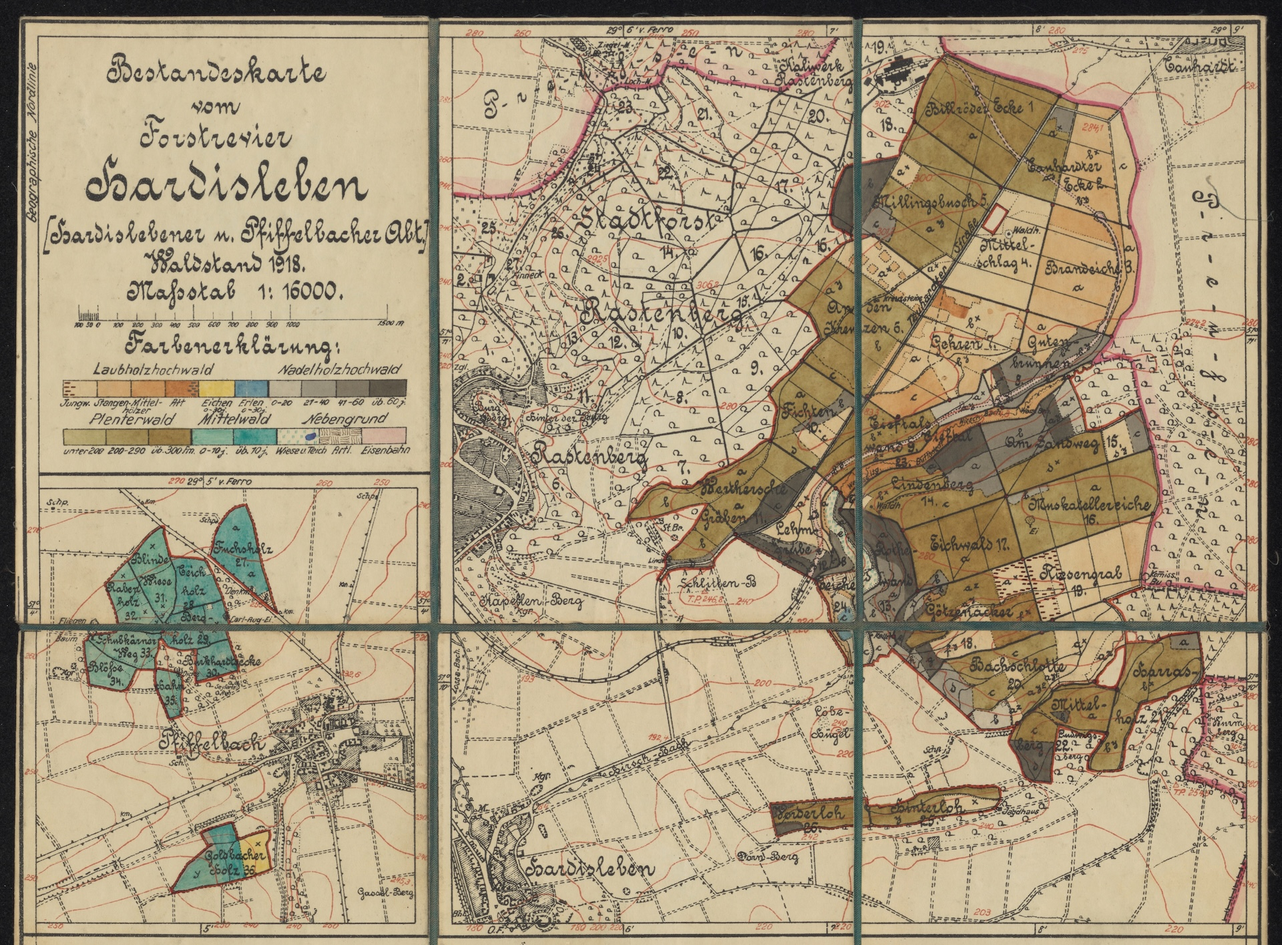landtype: (862, 377, 1064, 485), (877, 124, 1001, 269), (1009, 450, 1159, 557), (1089, 637, 1202, 770), (942, 189, 1051, 310), (916, 59, 1018, 185), (946, 56, 1058, 157), (904, 497, 1021, 589), (687, 442, 807, 529), (1029, 225, 1117, 331), (946, 631, 1056, 711), (863, 467, 1004, 528), (995, 335, 1110, 407), (944, 57, 1021, 159), (1044, 527, 1131, 615), (995, 334, 1101, 403), (999, 432, 1106, 495), (1059, 113, 1119, 222), (1000, 328, 1098, 392), (862, 293, 919, 397), (931, 287, 1022, 348), (788, 257, 854, 339), (771, 363, 843, 438), (211, 506, 269, 596), (735, 468, 813, 533), (981, 405, 1056, 471), (870, 787, 999, 825), (1023, 159, 1106, 218), (862, 511, 916, 601), (174, 824, 245, 891), (759, 473, 823, 547), (907, 321, 1016, 362), (916, 570, 1000, 622), (870, 368, 949, 419), (1039, 683, 1116, 735), (882, 348, 962, 398), (129, 529, 176, 614), (862, 401, 935, 454), (1103, 226, 1138, 335), (930, 340, 998, 396), (1055, 631, 1125, 685), (667, 505, 732, 559), (812, 307, 855, 388), (862, 236, 918, 292), (1020, 313, 1077, 368), (923, 426, 988, 474), (862, 425, 938, 466), (738, 535, 814, 576), (1109, 111, 1136, 225), (796, 407, 853, 459), (107, 563, 155, 624), (171, 558, 221, 614), (1025, 119, 1069, 182), (1097, 218, 1121, 333), (629, 484, 708, 518), (931, 376, 992, 420), (947, 451, 1003, 497), (793, 390, 854, 432), (824, 490, 856, 570), (89, 631, 158, 668), (817, 411, 855, 477), (85, 641, 136, 690), (1049, 205, 1113, 243), (1025, 553, 1060, 621), (1121, 516, 1153, 589), (667, 531, 733, 566), (870, 556, 905, 622), (861, 159, 897, 223), (804, 350, 855, 395), (930, 662, 973, 715), (774, 800, 854, 827), (1005, 161, 1057, 202), (874, 344, 914, 393), (930, 630, 996, 659), (1012, 668, 1052, 714), (754, 533, 819, 561), (1053, 380, 1085, 434), (1010, 741, 1053, 781), (992, 561, 1032, 604), (1040, 394, 1074, 444), (773, 433, 820, 469), (197, 640, 237, 680), (869, 341, 903, 388), (1011, 708, 1058, 742), (896, 272, 939, 309), (820, 531, 854, 577), (988, 592, 1040, 621), (832, 167, 854, 235), (166, 600, 228, 624), (239, 831, 270, 877), (1055, 602, 1124, 622), (1102, 417, 1133, 461), (863, 573, 890, 622), (862, 203, 895, 241), (894, 644, 929, 679), (162, 631, 227, 649), (939, 405, 994, 426), (991, 655, 1024, 689), (1125, 410, 1151, 453), (972, 700, 1010, 728), (890, 153, 920, 188), (944, 795, 998, 814), (835, 494, 855, 545), (1055, 188, 1094, 214), (817, 578, 838, 623), (916, 643, 943, 677), (156, 670, 179, 709), (816, 498, 832, 554), (895, 594, 927, 622), (992, 631, 1043, 648), (922, 255, 955, 281), (1007, 484, 1048, 504), (904, 590, 930, 621), (824, 572, 856, 597), (953, 600, 990, 621), (862, 274, 887, 305), (165, 674, 182, 718), (812, 551, 839, 578), (830, 630, 851, 664), (831, 241, 854, 272), (945, 288, 980, 308), (906, 630, 947, 647), (870, 632, 891, 663), (829, 460, 855, 484), (1049, 108, 1074, 132), (835, 469, 855, 498), (822, 487, 834, 534), (991, 365, 1009, 395), (921, 570, 949, 589), (833, 594, 856, 617), (1042, 659, 1059, 690), (1006, 692, 1022, 724), (984, 370, 1000, 401), (1171, 633, 1199, 649), (1106, 221, 1123, 247), (911, 317, 932, 338), (895, 630, 913, 651), (863, 568, 878, 593), (771, 803, 797, 817), (775, 822, 802, 835), (924, 307, 949, 321), (863, 541, 876, 567), (841, 510, 855, 533), (876, 630, 896, 646), (669, 562, 713, 569), (863, 632, 872, 664), (838, 607, 855, 623), (259, 591, 274, 609), (842, 489, 855, 508), (1056, 98, 1076, 110), (845, 637, 854, 663), (863, 547, 873, 570), (862, 800, 870, 825), (1015, 311, 1026, 329), (924, 592, 941, 603), (821, 482, 831, 500), (1053, 711, 1069, 722), (1191, 670, 1203, 684), (155, 611, 169, 623), (862, 494, 873, 509), (931, 585, 947, 595), (837, 630, 852, 639), (879, 251, 891, 262), (838, 590, 852, 598), (912, 305, 923, 315), (975, 328, 986, 338), (892, 289, 903, 298), (150, 616, 162, 624), (1011, 338, 1019, 350), (868, 264, 878, 273), (890, 262, 899, 271), (878, 280, 888, 288), (852, 594, 856, 613), (899, 272, 907, 281), (147, 634, 160, 639), (862, 254, 868, 264), (875, 242, 882, 249), (945, 326, 952, 333), (849, 255, 854, 264), (248, 586, 255, 592), (204, 568, 211, 574), (144, 631, 162, 633), (969, 715, 974, 722), (862, 397, 866, 405), (975, 337, 982, 341), (208, 604, 212, 609)
legend: (362, 428, 406, 443), (192, 429, 233, 445), (320, 428, 361, 444), (234, 429, 276, 444), (64, 430, 106, 445), (278, 429, 319, 444), (370, 380, 406, 396), (149, 430, 190, 444), (107, 430, 148, 444), (199, 381, 234, 396), (64, 381, 96, 397), (166, 381, 198, 397), (302, 381, 336, 396), (270, 381, 301, 397), (236, 381, 267, 397), (98, 381, 131, 396), (132, 381, 165, 396), (337, 381, 369, 396)
